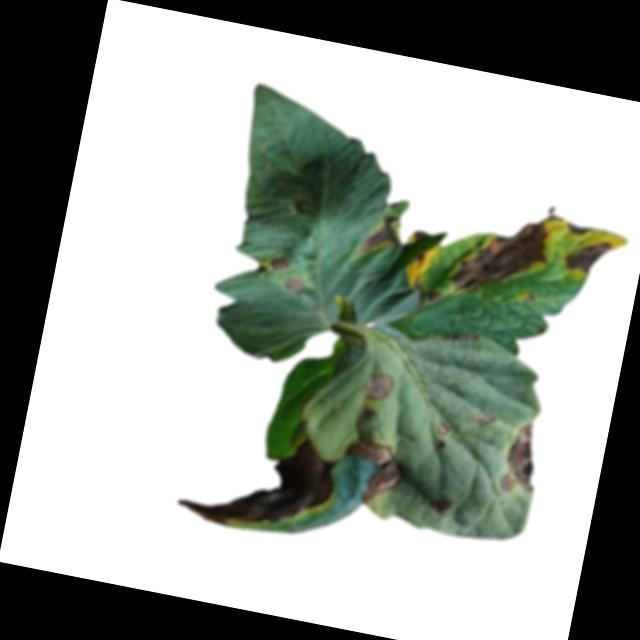Early_blight: (173, 414, 342, 543), (447, 204, 555, 309), (338, 432, 410, 507), (496, 415, 547, 498), (561, 230, 616, 280), (357, 209, 400, 261), (364, 369, 400, 404), (443, 328, 477, 349), (471, 406, 501, 429), (280, 273, 305, 295), (270, 250, 291, 272), (565, 218, 591, 235), (413, 246, 430, 270), (436, 417, 455, 438)
